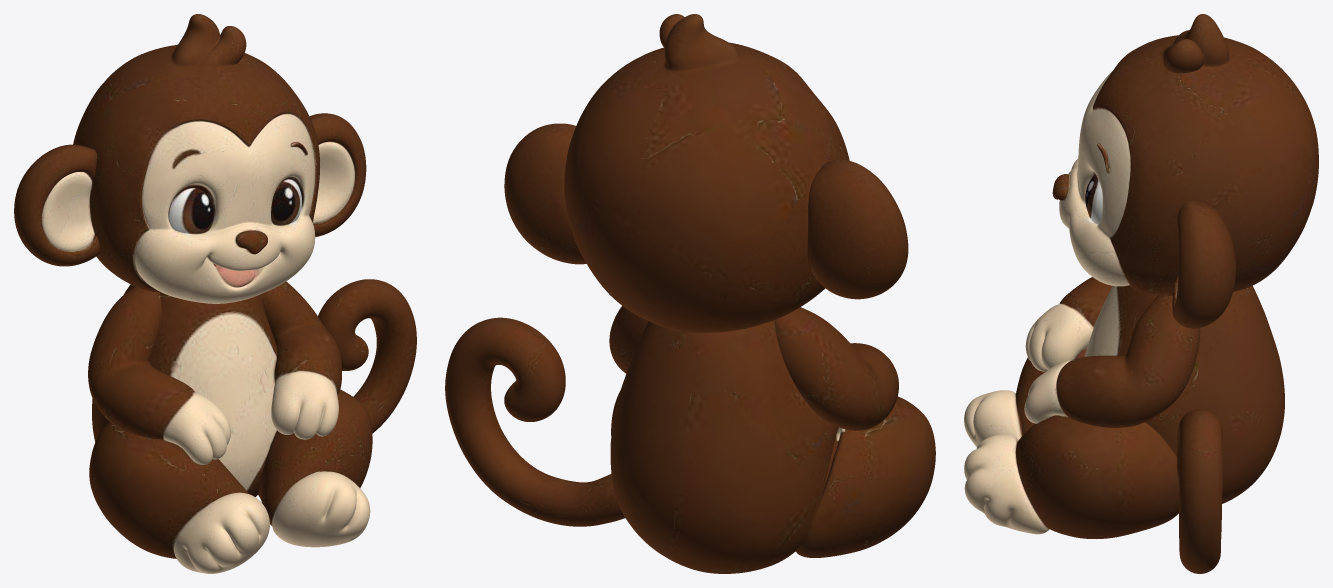
3 renders of one model, left to right at view 1: azimuth 30°, elevation 25°; view 2: azimuth 150°, elevation 25°; view 3: azimuth 270°, elevation 25°, orthographic. The views are drawn at different scales.
Size of the model in its own units: 1.66 by 1.9 by 1.24.
Materials: 1 (1 with a texture image).
